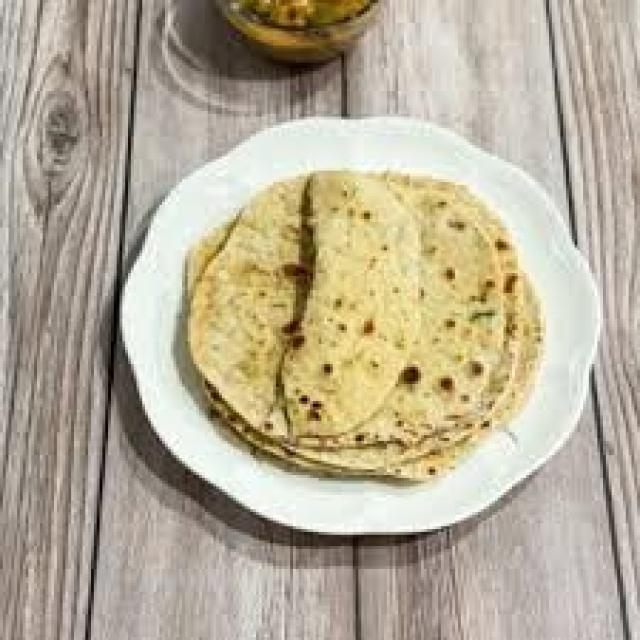ROTI: (183, 176, 536, 488)
